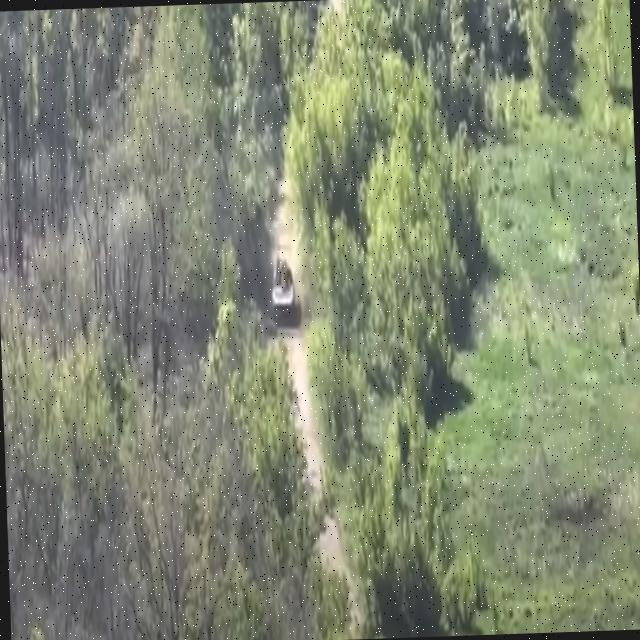AIFV: (270, 259, 297, 328)
